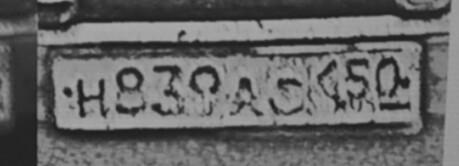license-plateSW: (50, 43, 424, 133)
